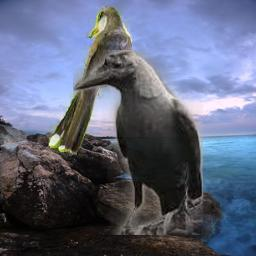Crow: (73, 50, 203, 235)
Cuckoo: (48, 6, 132, 155)
